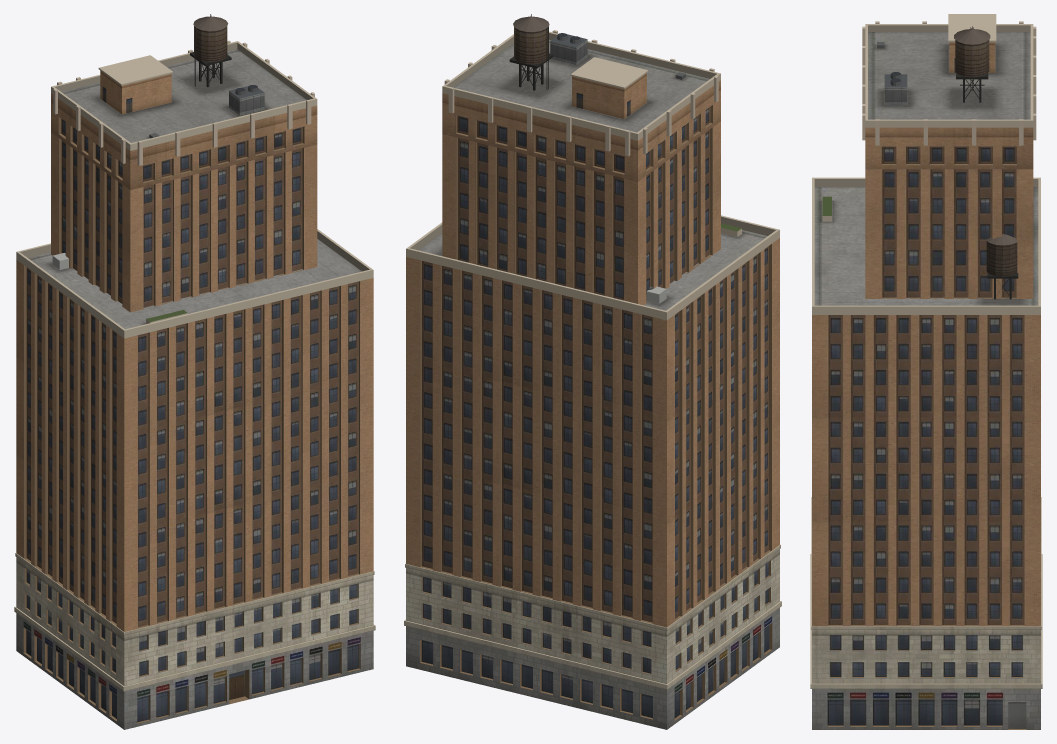
Rendered from nyc_deco_a.glb.
3 renders of one model, left to right at view 1: azimuth 30°, elevation 25°; view 2: azimuth 150°, elevation 25°; view 3: azimuth 270°, elevation 25°, orthographic. The views are drawn at different scales.
Visible parts, largest first — view 1: nyc_deco_a; view 2: nyc_deco_a; view 3: nyc_deco_a.
Boxes of the visible parts, left/top/right/bottom form: nyc_deco_a: left=14, top=14, right=375, bottom=729; nyc_deco_a: left=404, top=14, right=781, bottom=729; nyc_deco_a: left=810, top=14, right=1042, bottom=729.
Bounding box in the file's own units: 40.4 × 95.2 × 30.4.
1 material, 1 textured.
